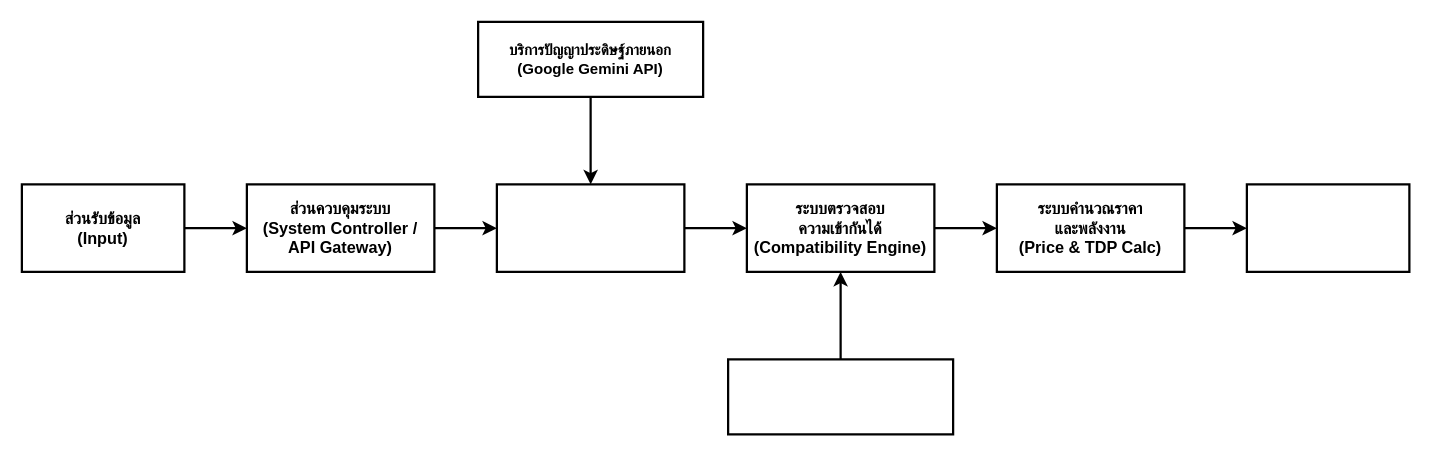
The diagram is 1433 pixels wide and 458 high, and some of its shapes have lost their labels. The shapes that lost their labels are listed below. From the top down, each one's centre as x and y in pixels, then its label:
At pixel 590 227: "ระบบแนะนำสเปก (SpecAI Engine)".
At pixel 1327 227: "ส่วนแสดงผลลัพธ์ (Output)".
At pixel 840 396: "ฐานข้อมูลฮาร์ดแวร์ (MySQL Database)".
